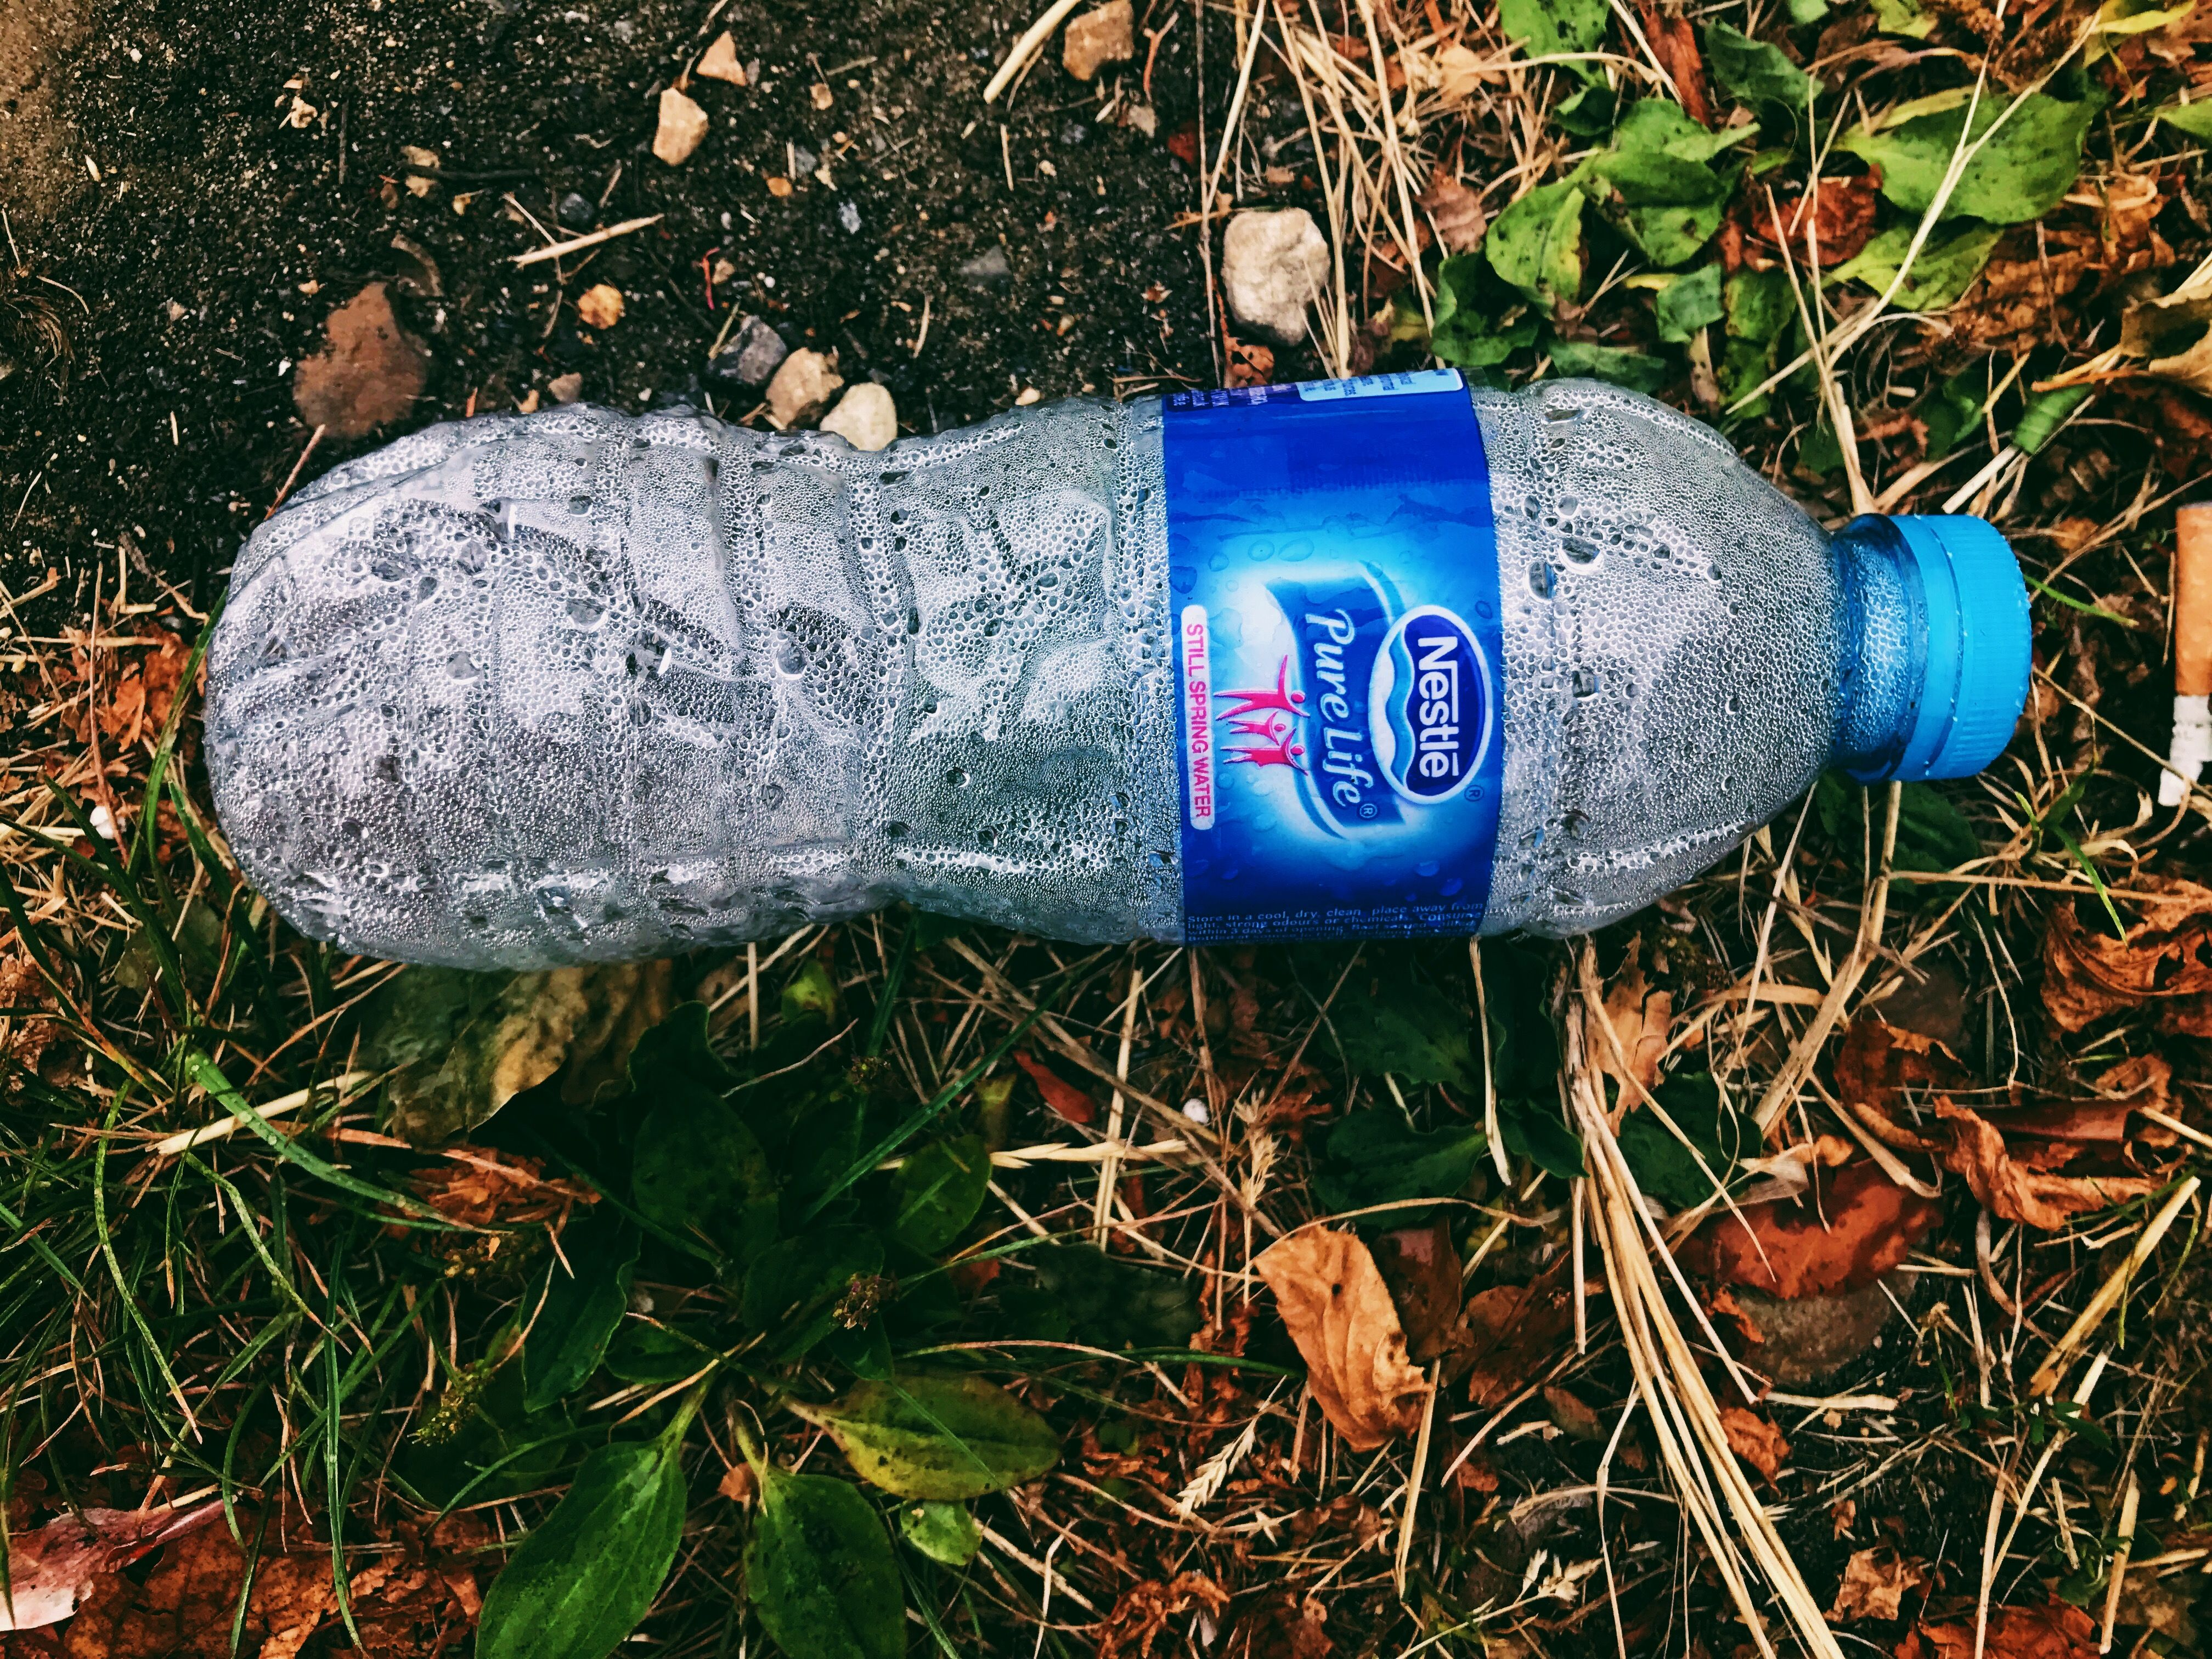bottle: (211, 368, 2027, 929)
